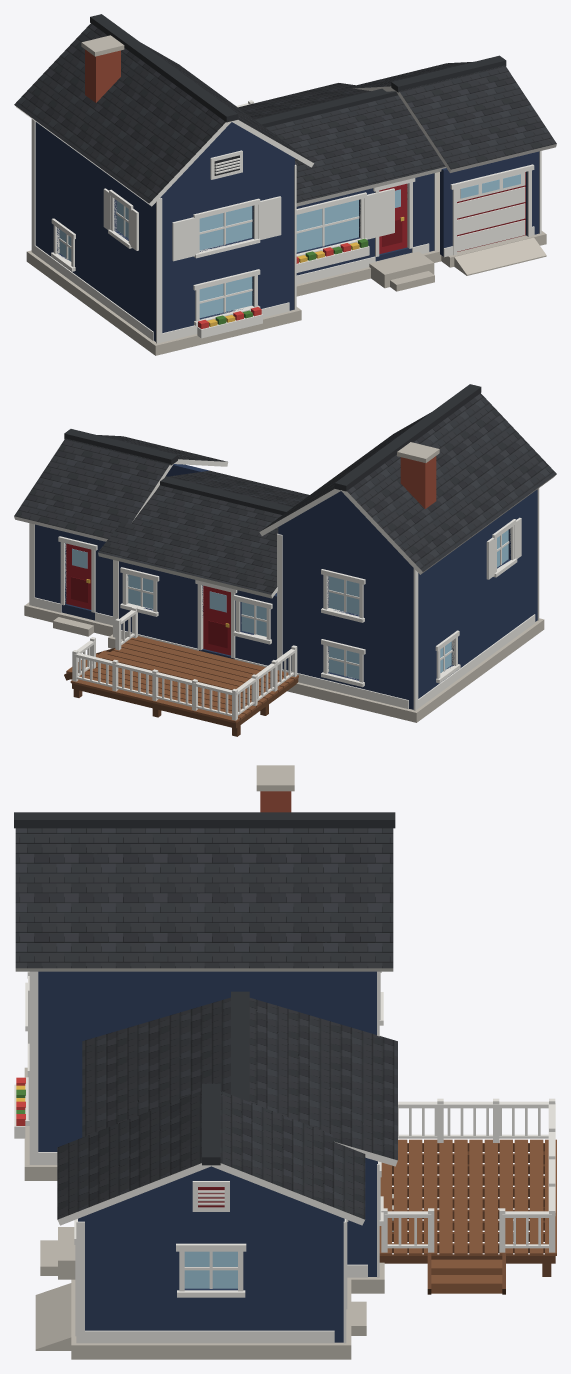
Rendered from base-06-level3.glb.
The picture shows the model from 3 angles, top to bottom: view 1: azimuth 30°, elevation 25°; view 2: azimuth 150°, elevation 25°; view 3: azimuth 270°, elevation 25°; orthographic projection. The views are drawn at different scales.
Visible parts, largest first — view 1: base_house_6_finished, piece_garage; view 2: base_house_6_finished, piece_garage, piece_deck; view 3: base_house_6_finished, piece_garage, piece_deck.
Boxes of the visible parts, left/top/right/bottom form: base_house_6_finished: left=14, top=14, right=446, bottom=355; piece_garage: left=353, top=55, right=556, bottom=275; base_house_6_finished: left=98, top=384, right=556, bottom=722; piece_garage: left=14, top=429, right=228, bottom=636; piece_deck: left=64, top=606, right=298, bottom=736; base_house_6_finished: left=14, top=765, right=397, bottom=1293; piece_garage: left=35, top=1083, right=366, bottom=1359; piece_deck: left=379, top=1098, right=556, bottom=1294.
Bounding box in the file's own units: 15.39 × 8.27 × 12.22.
17 materials, 1 textured.
